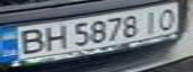5: (69, 19, 93, 47)
7: (103, 15, 127, 42)
8: (121, 11, 145, 38), (87, 17, 109, 45)
B: (9, 26, 51, 56)
H: (39, 22, 69, 52)
I: (136, 7, 163, 34)
O: (151, 5, 181, 30)
